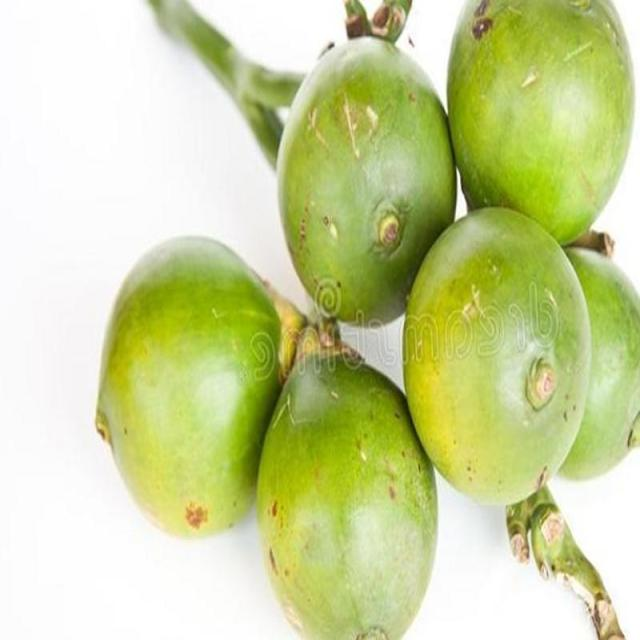good: (402, 209, 630, 511), (95, 237, 301, 542), (274, 36, 459, 330), (254, 345, 438, 639), (447, 0, 636, 248), (558, 249, 639, 481)
